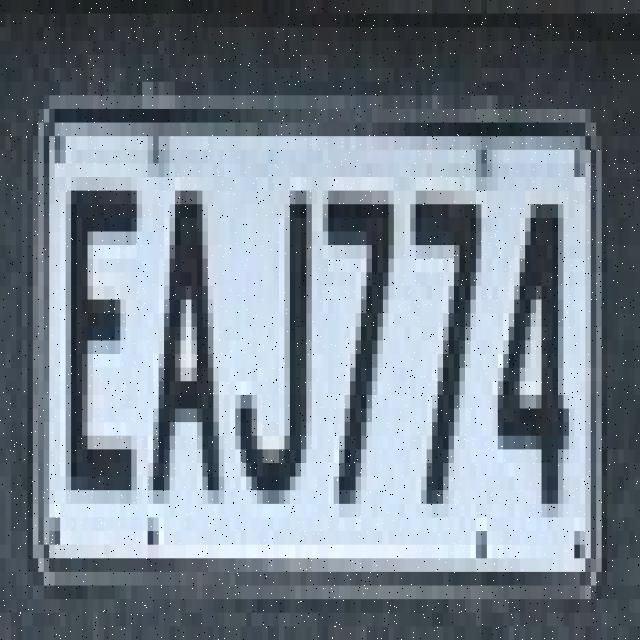licenseplate: (22, 19, 616, 622)
